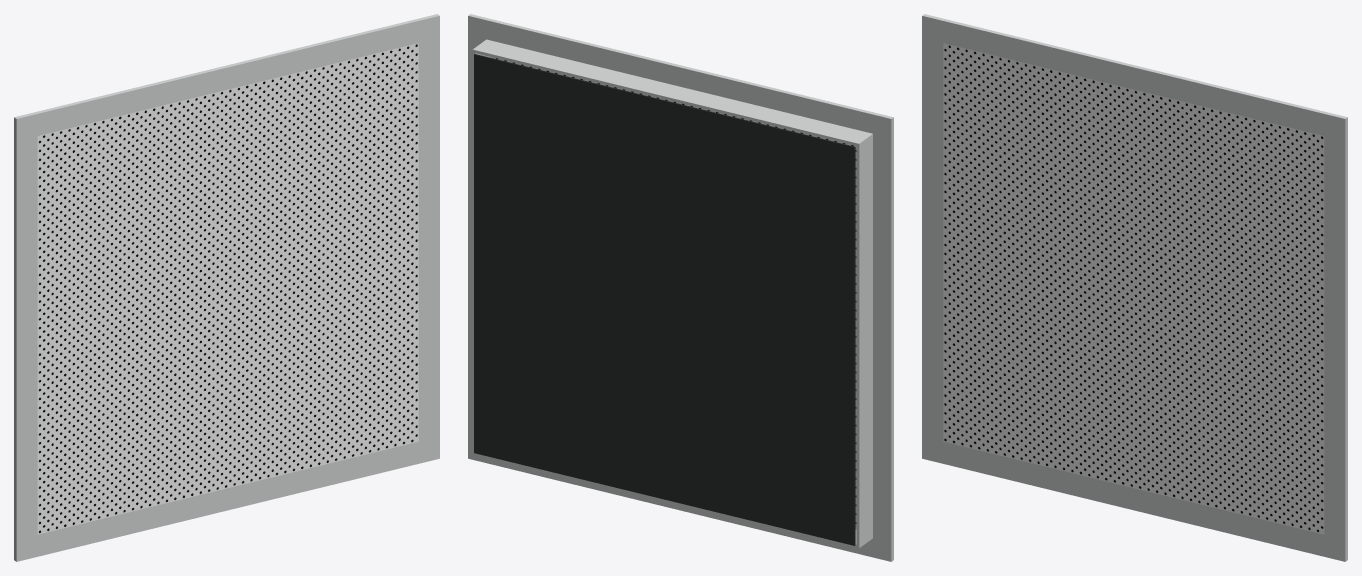
The model's file is ecoclima-egfr-300x300.glb.
3 renders of one model, left to right at view 1: azimuth 30°, elevation 25°; view 2: azimuth 150°, elevation 25°; view 3: azimuth 330°, elevation 25°, orthographic.
Parts seen in each view (by area): view 1: Profile_lamiera_forata, Profile_cornice.109, Profile_cornice.110, Profile_cornice.111, Profile_cornice.112; view 2: Interno.031, Profile_cornice.109, Profile_cornice.111, Profile_ritorno.118, Profile_ritorno.116, Profile_cornice.110, Profile_cornice.112, Profile_lamiera_forata, Profile_ritorno.117, Profile_ritorno.119; view 3: Profile_lamiera_forata, Profile_cornice.109, Profile_cornice.110, Profile_cornice.112, Profile_cornice.111.
Part boxes in pixels (bbox=[...]): Profile_lamiera_forata: bbox=[37, 43, 418, 534]; Profile_cornice.109: bbox=[14, 14, 439, 140]; Profile_cornice.110: bbox=[14, 436, 439, 561]; Profile_cornice.111: bbox=[14, 136, 37, 539]; Profile_cornice.112: bbox=[418, 38, 439, 441]; Interno.031: bbox=[474, 54, 855, 545]; Profile_cornice.109: bbox=[468, 14, 893, 140]; Profile_cornice.111: bbox=[873, 137, 893, 539]; Profile_ritorno.118: bbox=[856, 137, 872, 545]; Profile_ritorno.116: bbox=[472, 39, 872, 146]; Profile_cornice.110: bbox=[468, 436, 893, 561]; Profile_cornice.112: bbox=[468, 38, 490, 437]; Profile_lamiera_forata: bbox=[490, 57, 856, 529]; Profile_ritorno.117: bbox=[472, 451, 872, 548]; Profile_ritorno.119: bbox=[472, 52, 488, 451]; Profile_lamiera_forata: bbox=[943, 43, 1324, 534]; Profile_cornice.109: bbox=[922, 14, 1347, 140]; Profile_cornice.110: bbox=[922, 436, 1347, 561]; Profile_cornice.112: bbox=[1324, 136, 1347, 539]; Profile_cornice.111: bbox=[922, 38, 943, 441].
Bounding box in the file's own units: 0.3 × 0.3 × 0.022.
Materials: 3 (1 with a texture image).
